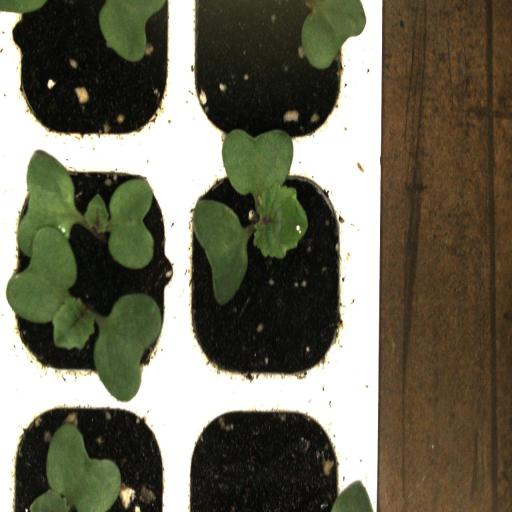Folha: (30, 424, 121, 512)
Germinacao: (177, 153, 356, 393), (8, 149, 183, 390)
